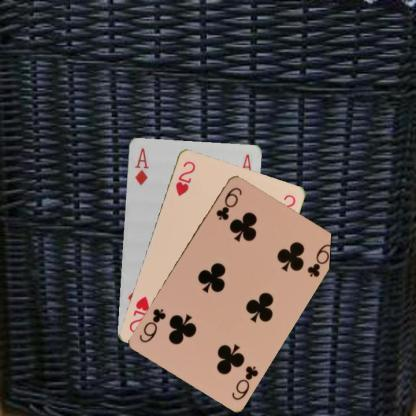2h: (173, 158, 196, 196)
6c: (228, 362, 260, 402), (213, 184, 243, 221)
Ad: (132, 145, 150, 187)
